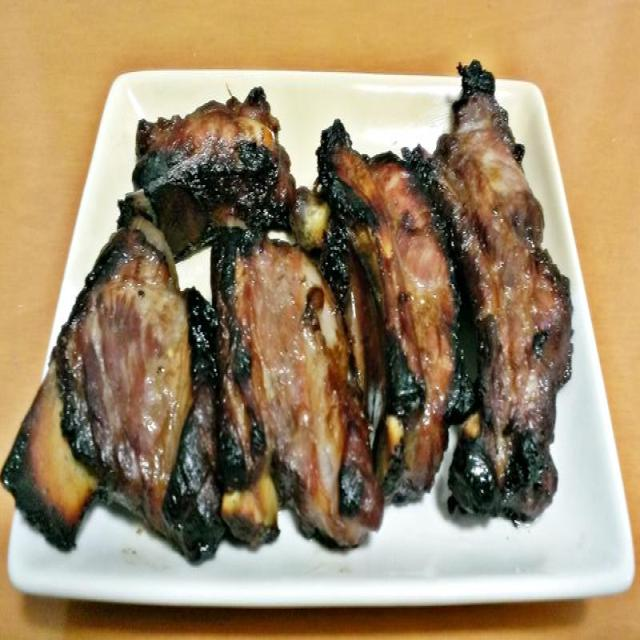overcooked pork: (417, 46, 583, 537), (44, 187, 220, 587), (210, 215, 391, 575), (309, 121, 471, 510), (135, 75, 300, 267), (0, 367, 112, 571)
